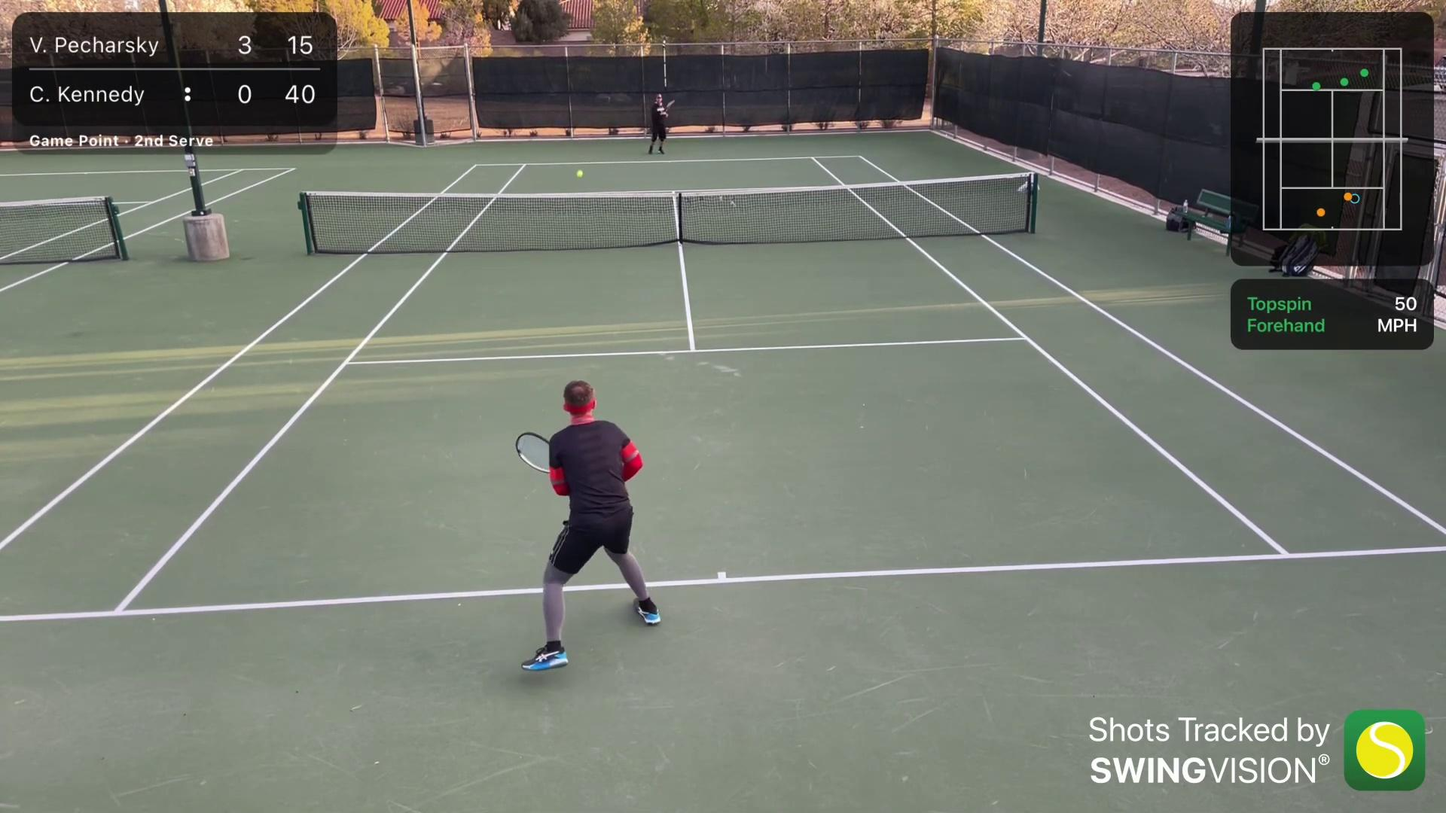ball: (576, 172, 583, 178)
